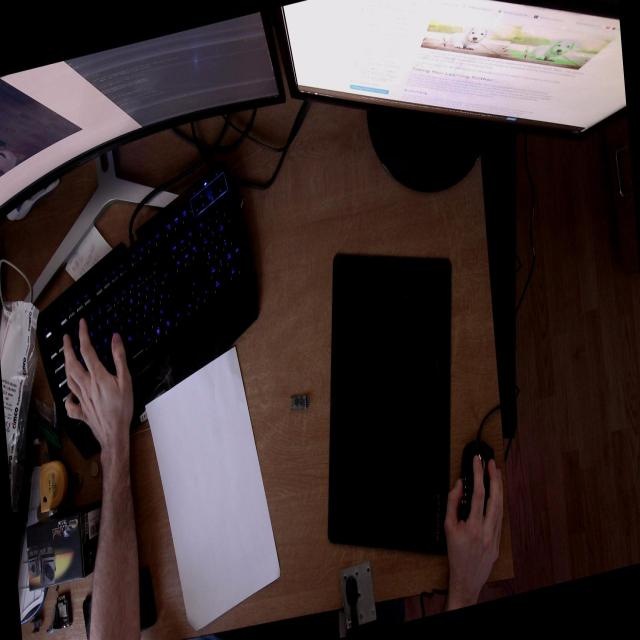keyboard-with-hands: (32, 153, 274, 470)
